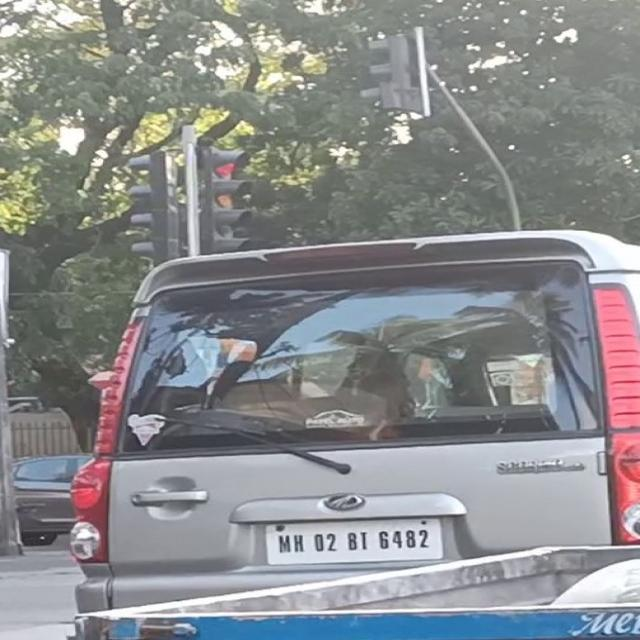Plate: (265, 517, 442, 560)
